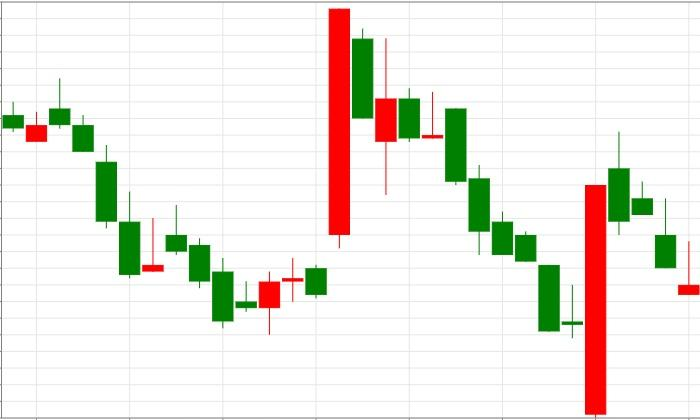morning_star_rise: (328, 8, 607, 418)
